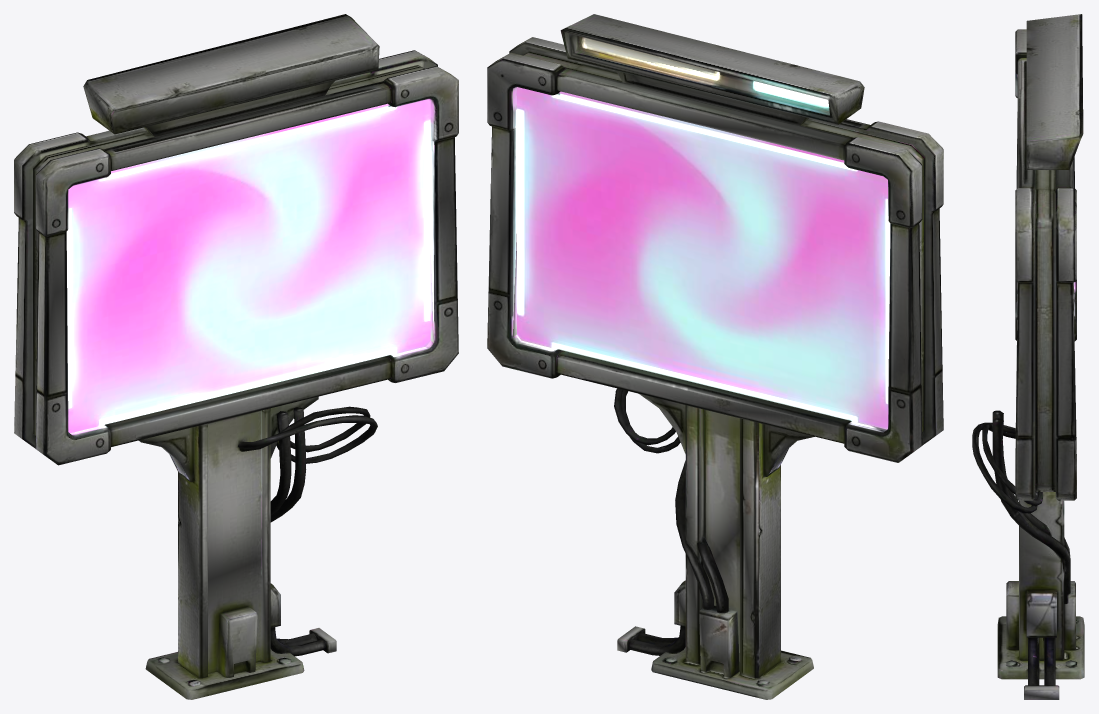
Rendered from holo_screen.glb.
3 renders of one model, left to right at view 1: azimuth 30°, elevation 25°; view 2: azimuth 150°, elevation 25°; view 3: azimuth 270°, elevation 25°, orthographic. The views are drawn at different scales.
Visible parts, largest first — view 1: Body, Glow; view 2: Glow, Body; view 3: Body.
Boxes of the visible parts, box(x1,y1,x2,y2) form: Body: box(14, 14, 458, 699); Glow: box(40, 60, 437, 435); Glow: box(513, 30, 890, 432); Body: box(487, 14, 943, 699); Body: box(972, 14, 1084, 699).
Size of the model in its own units: 4.31 by 6 by 1.05.
2 materials, 2 textured.
